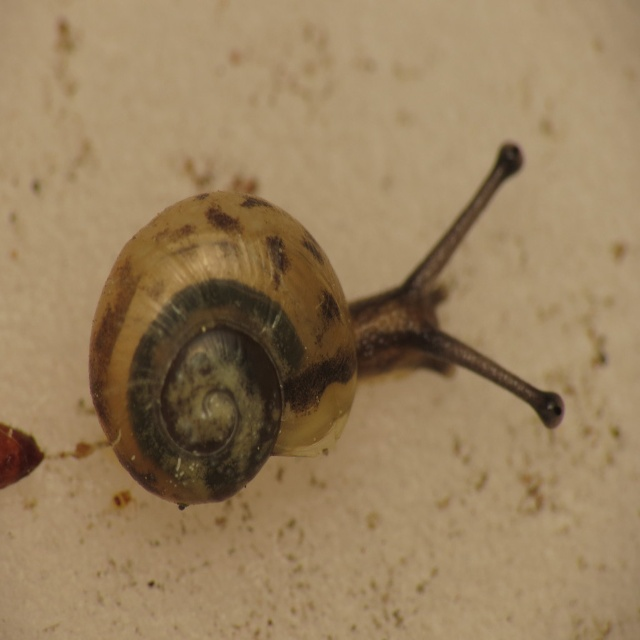Snail: (88, 142, 568, 507)
